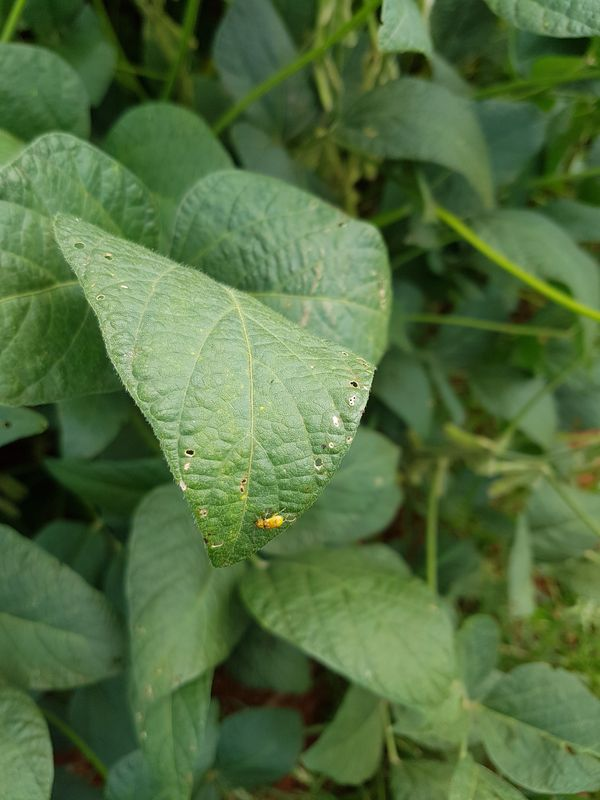Diabrotica_speciosa: (247, 497, 299, 539)
